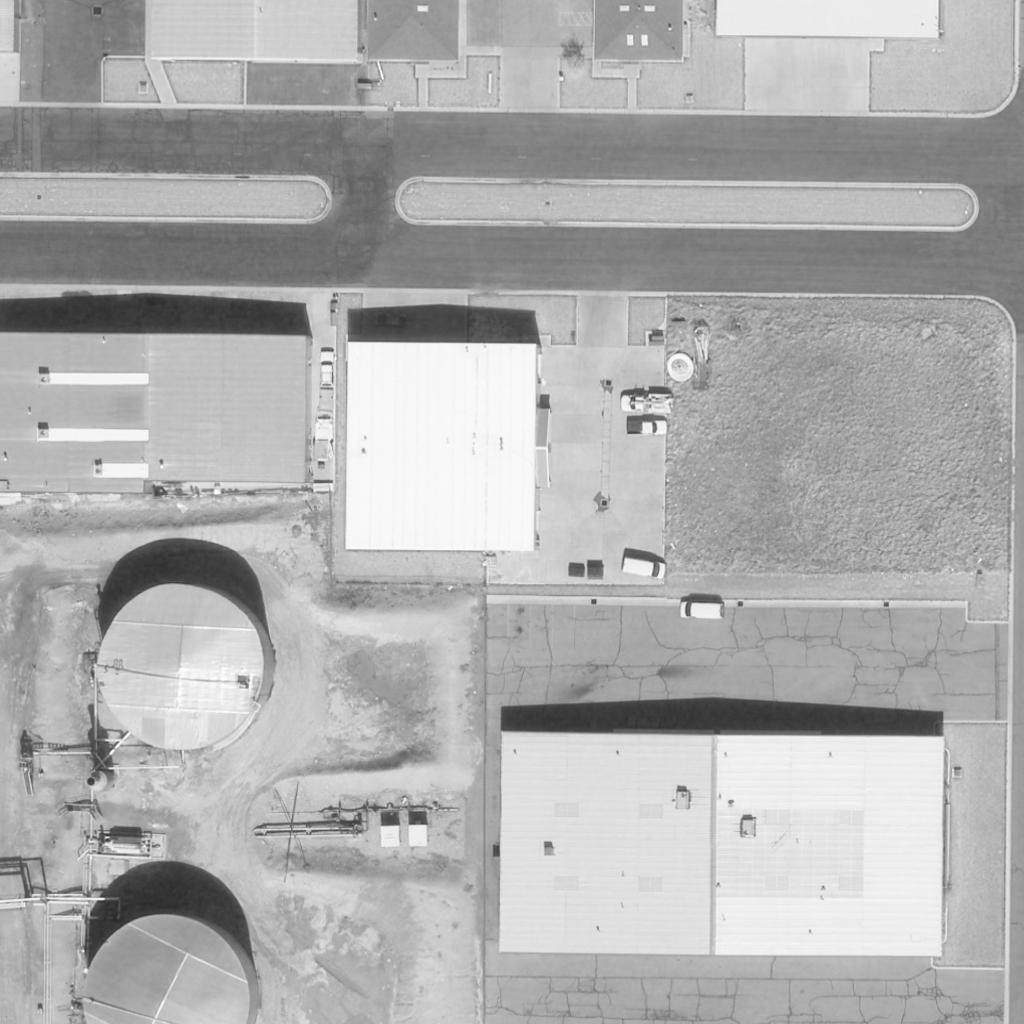vehicle: (621, 556, 669, 582), (620, 395, 672, 417), (678, 601, 728, 621), (624, 421, 670, 437), (319, 349, 333, 389)
